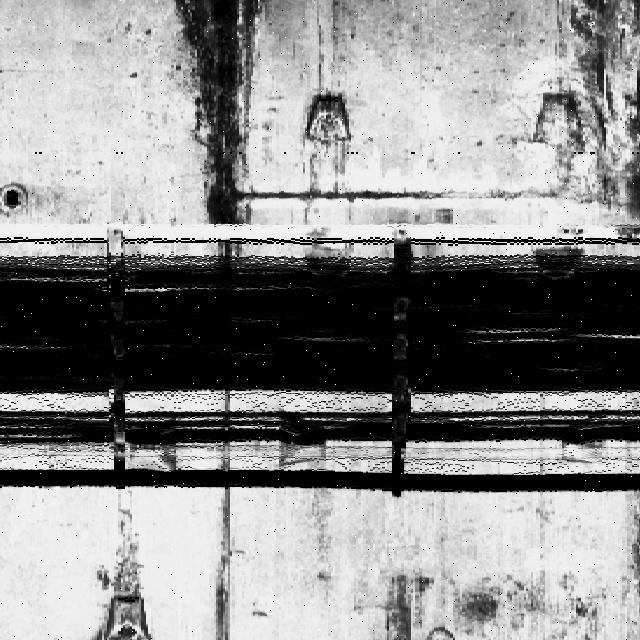leakage: (170, 0, 277, 224)
